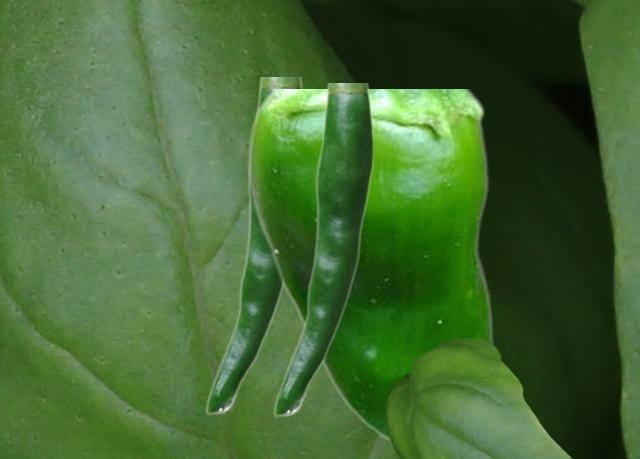green_chili: (246, 89, 492, 447), (204, 77, 305, 414), (272, 83, 372, 416)
